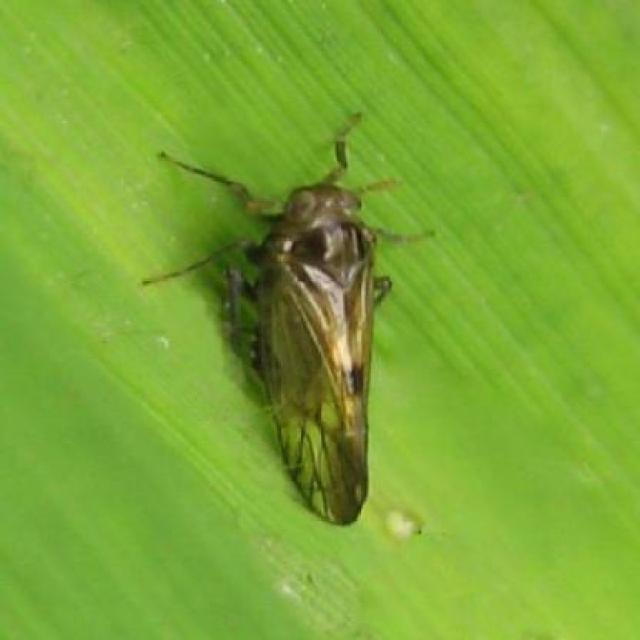brown-planthopper: (243, 179, 388, 533)
